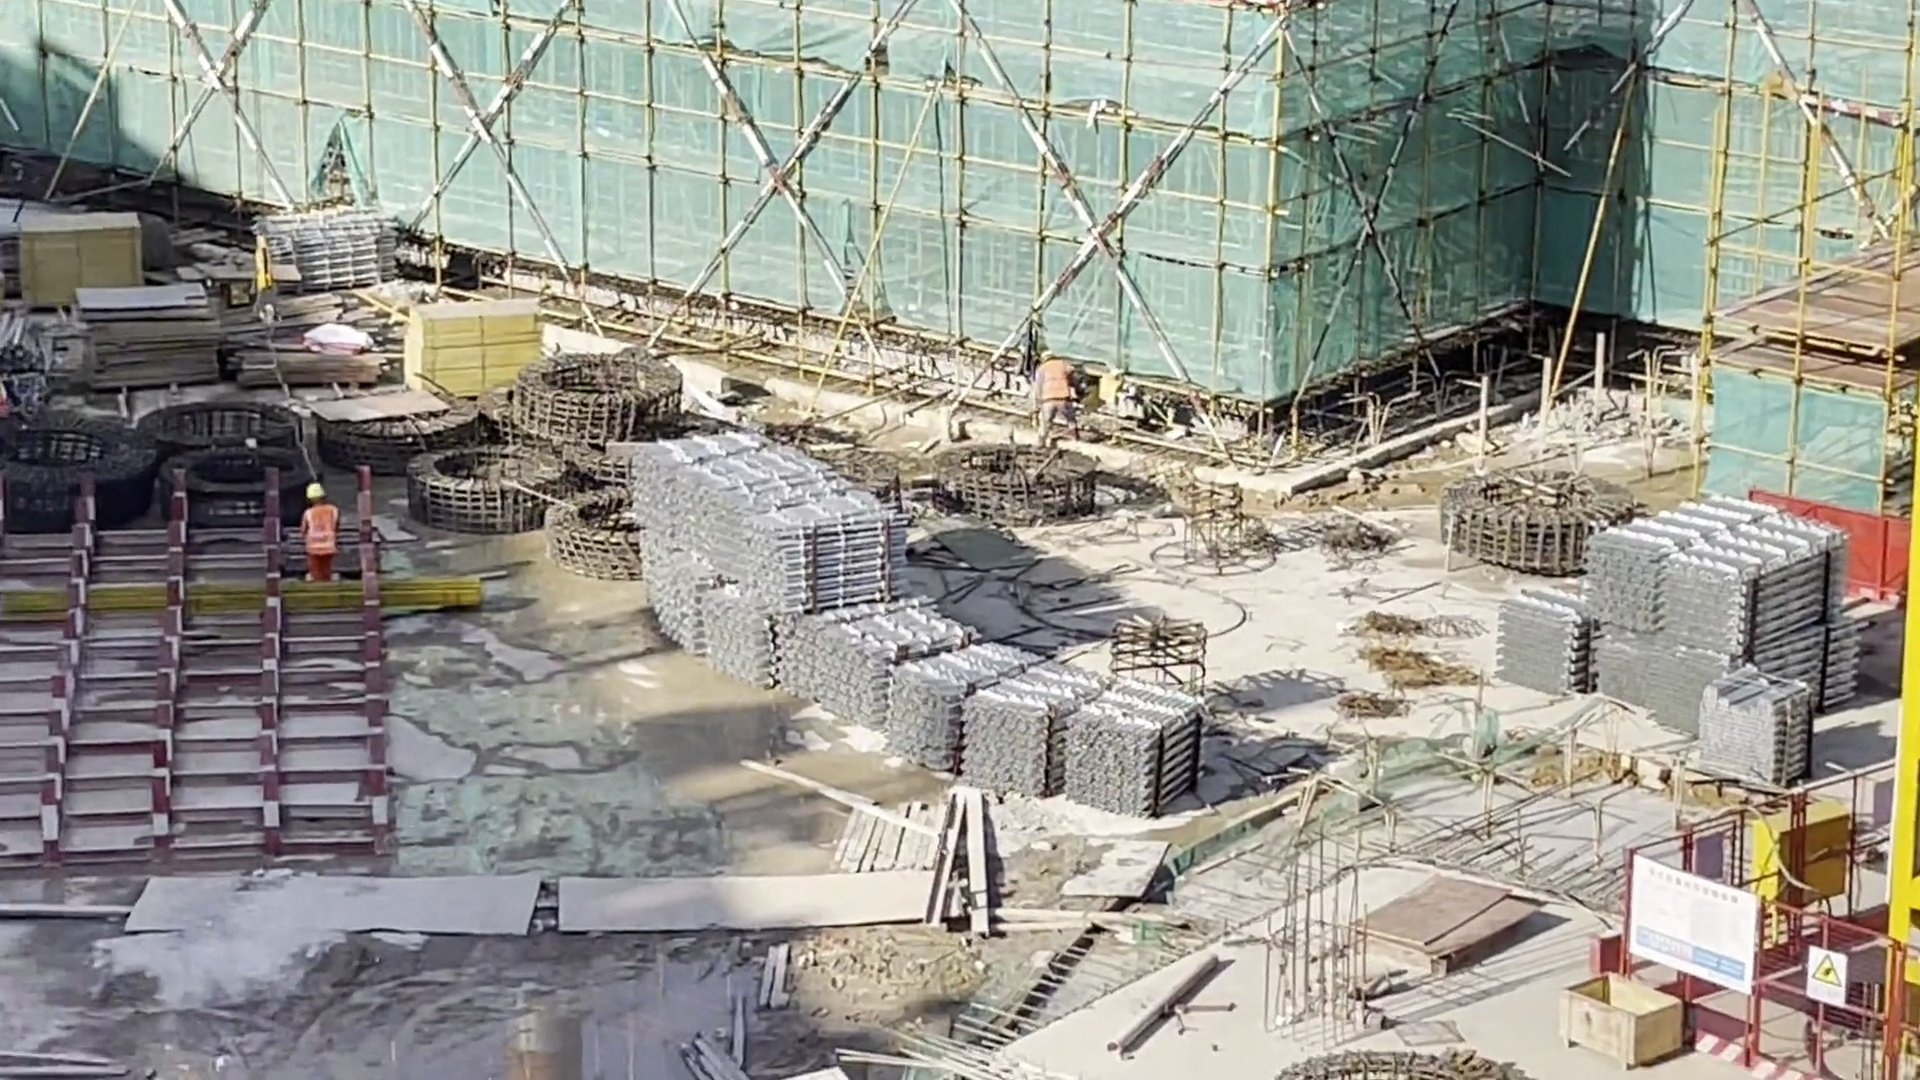board: (1361, 883, 1527, 972), (405, 297, 548, 395), (81, 288, 216, 385), (27, 218, 142, 300)
ebox: (1752, 800, 1846, 904)
fence: (1846, 512, 1911, 589)
helmet: (309, 484, 320, 499)
person: (1035, 350, 1075, 451), (305, 481, 336, 580)
scaffold: (1588, 496, 1859, 731), (632, 443, 911, 616), (966, 672, 1204, 812), (809, 622, 971, 734), (889, 642, 1036, 761), (1704, 673, 1813, 787), (1493, 579, 1602, 688), (259, 208, 401, 287)
slogan: (1805, 950, 1844, 1000)
vest: (305, 507, 338, 556), (1038, 361, 1069, 403)
